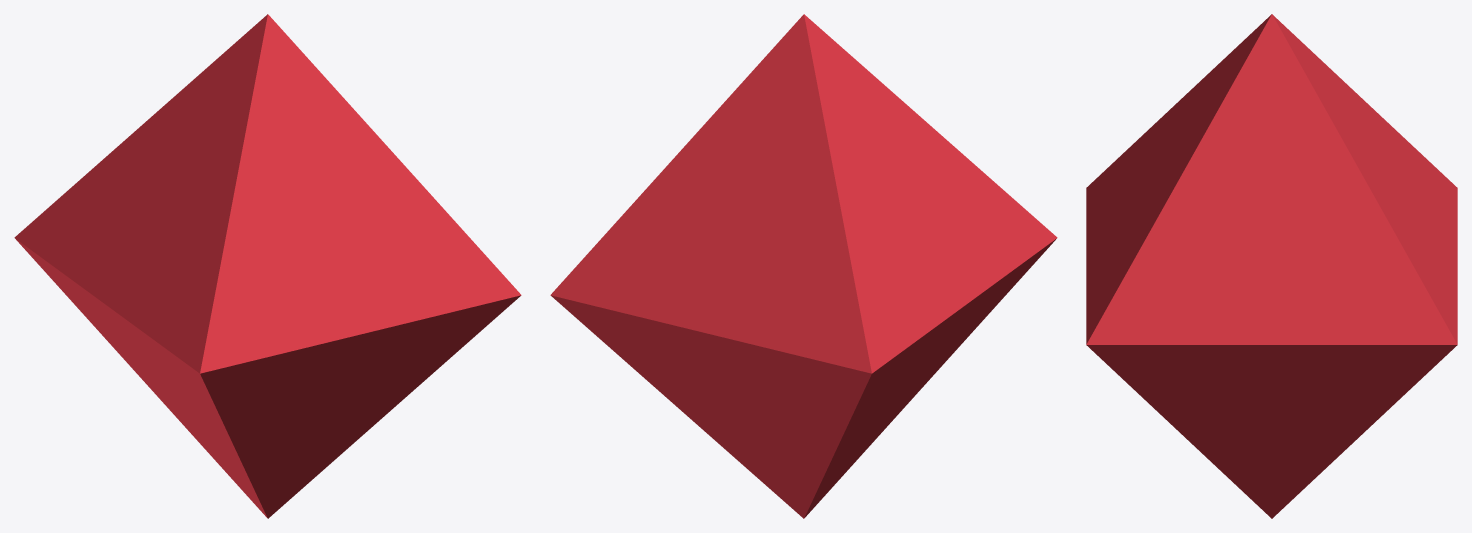
The model's file is instrument3_diamond.dae.
The picture shows the model from 3 angles, left to right: view 1: azimuth 30°, elevation 25°; view 2: azimuth 150°, elevation 25°; view 3: azimuth 270°, elevation 25°; orthographic projection.
Parts seen in each view (by area): view 1: $dummy_node; view 2: $dummy_node; view 3: $dummy_node.
Boxes of the visible parts, <box> form: $dummy_node: <box>14,14,521,518</box>; $dummy_node: <box>550,14,1057,518</box>; $dummy_node: <box>1086,14,1457,518</box>.
Bounding box in the file's own units: 0.1 × 0.15 × 0.1.
